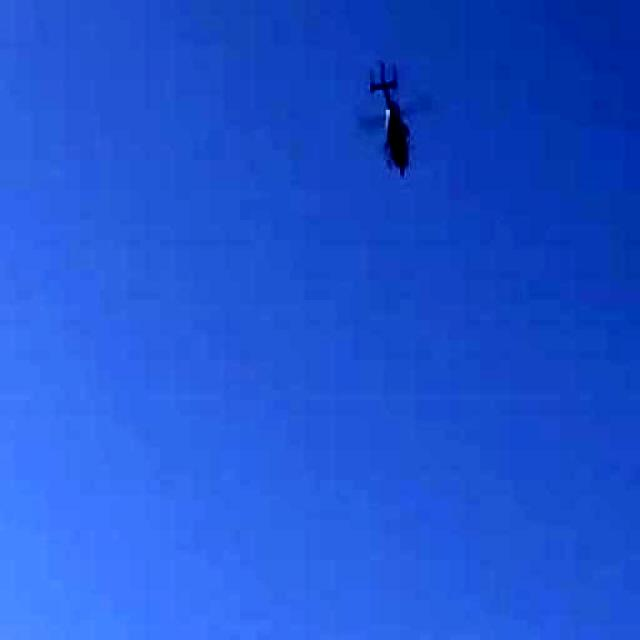drone: (342, 46, 449, 198)
